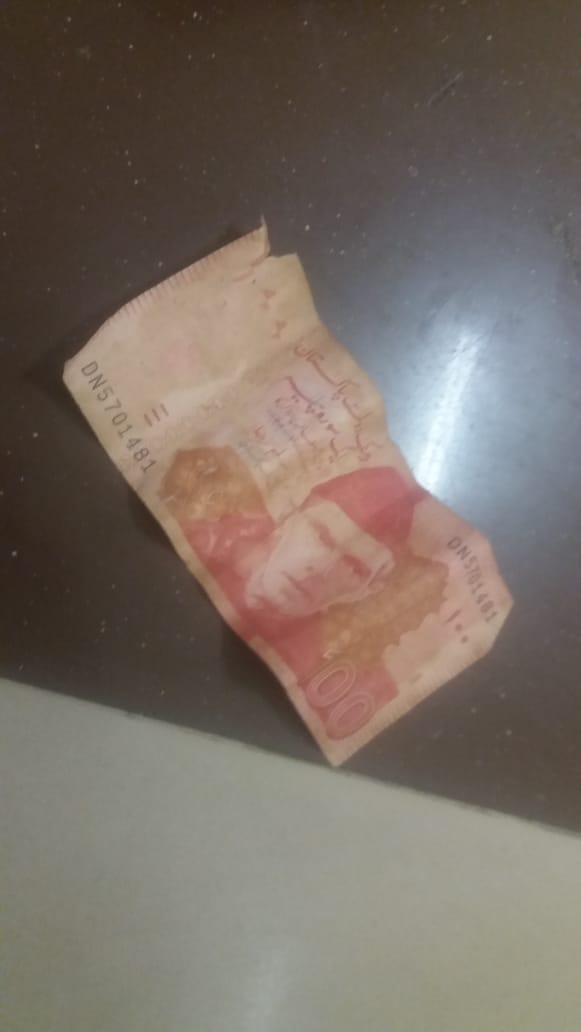100 rupee: (53, 217, 521, 766)
